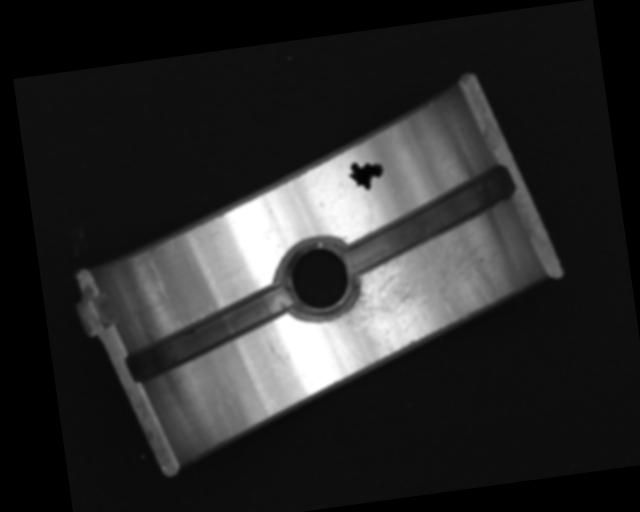blot: (344, 157, 387, 195)
gap: (338, 165, 518, 274), (120, 284, 300, 384)
hole: (274, 229, 363, 326)
nick: (143, 250, 169, 300)
scratch: (319, 218, 519, 379)
